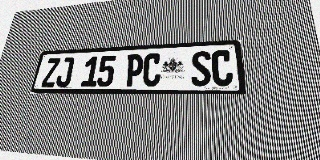1: (81, 56, 101, 87)
5: (96, 55, 116, 87)
C: (211, 50, 233, 86), (142, 53, 162, 87)
J: (55, 57, 75, 87)
P: (124, 54, 144, 87)
S: (191, 51, 211, 86)
Z: (41, 58, 61, 87)
